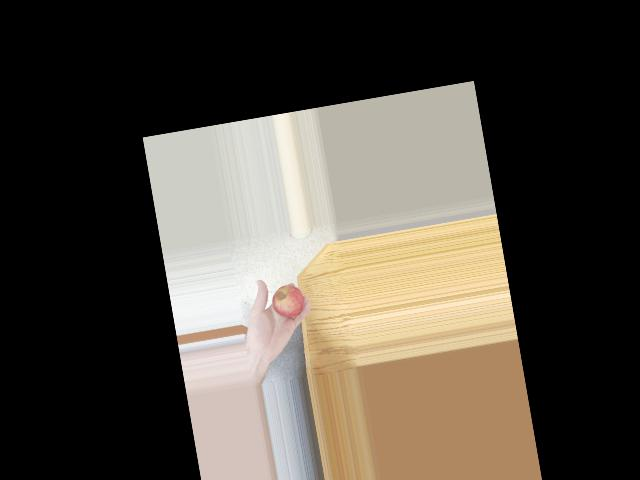apple: (267, 282, 306, 323)
